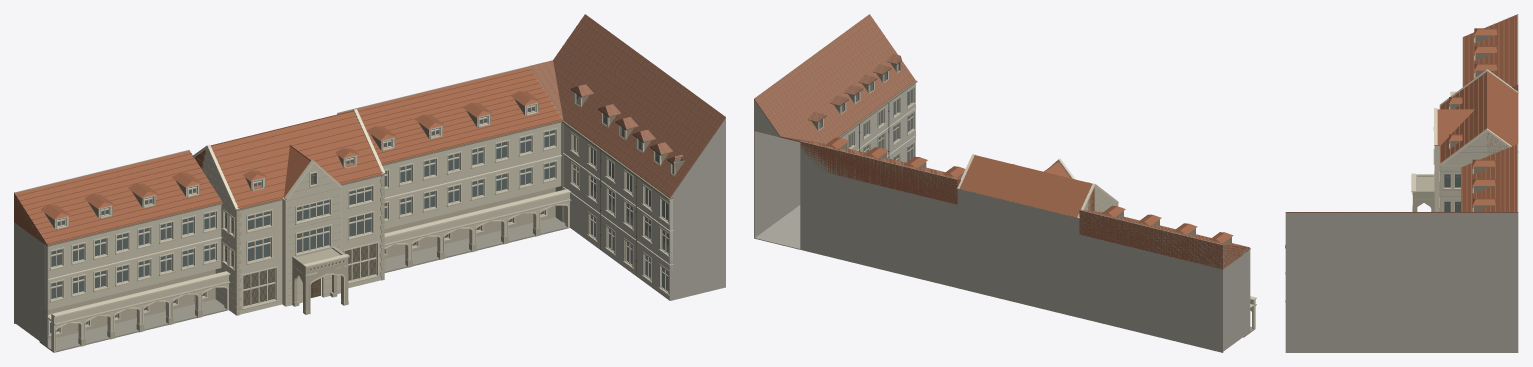
File: lod-source.glb
3 renders of one model, left to right at view 1: azimuth 30°, elevation 25°; view 2: azimuth 150°, elevation 25°; view 3: azimuth 270°, elevation 25°, orthographic. The views are drawn at different scales.
Visible parts, largest first — view 1: 中西女中东楼（五一楼）院落立面; view 2: 中西女中东楼（五一楼）院落立面; view 3: 中西女中东楼（五一楼）院落立面.
Part boxes in pixels (bbox=[...]): 中西女中东楼（五一楼）院落立面: bbox=[14, 14, 725, 352]; 中西女中东楼（五一楼）院落立面: bbox=[754, 14, 1256, 352]; 中西女中东楼（五一楼）院落立面: bbox=[1285, 14, 1518, 352].
Bounding box in the file's own units: 78.4 × 22.37 × 33.6.
19 materials, 2 textured.
